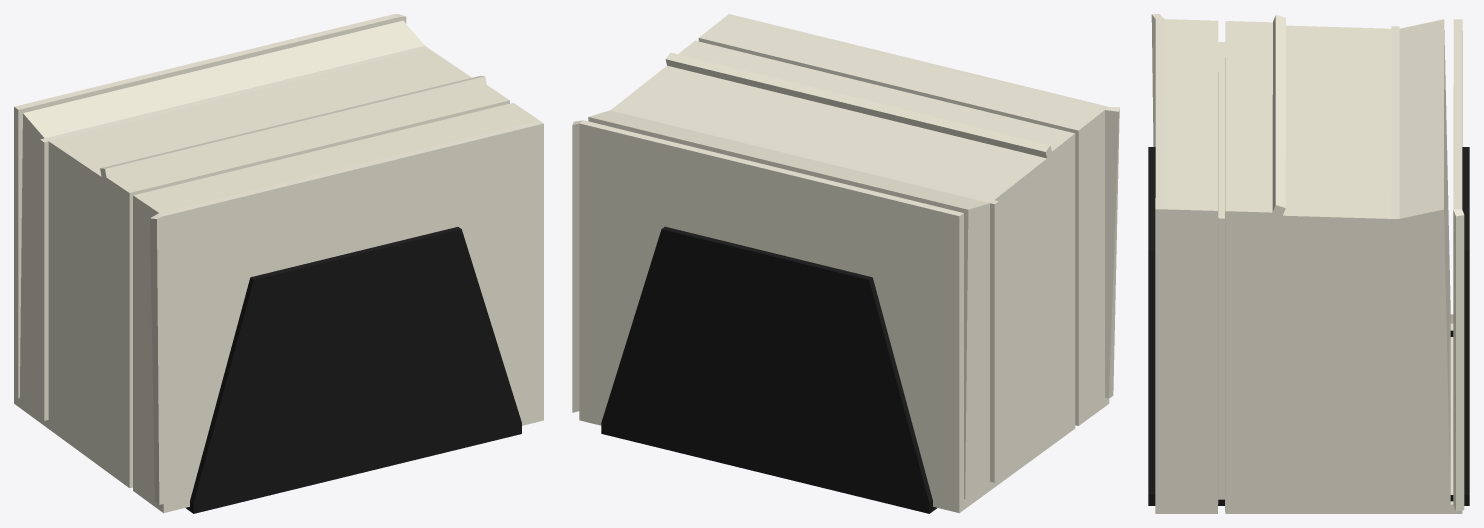
Rendered from napkins.glb.
3 views of the same model, side by side, from view 1: azimuth 30°, elevation 25°; view 2: azimuth 150°, elevation 25°; view 3: azimuth 270°, elevation 25° (orthographic). The views are drawn at different scales.
Visible parts, largest first — view 1: napkins; view 2: napkins; view 3: napkins.
Boxes of the visible parts, x1=… form: napkins: x1=14, y1=14, x2=543, y2=513; napkins: x1=572, y1=14, x2=1119, y2=513; napkins: x1=1148, y1=14, x2=1469, y2=513.
Bounding box in the file's own units: 0.1712 × 0.1249 × 0.1161.
